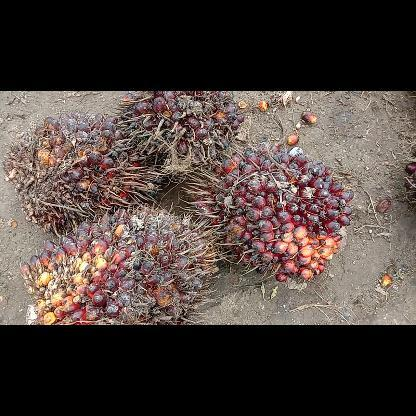TBS masak: (21, 204, 219, 324), (180, 145, 352, 280), (3, 112, 160, 236), (116, 90, 244, 174)
